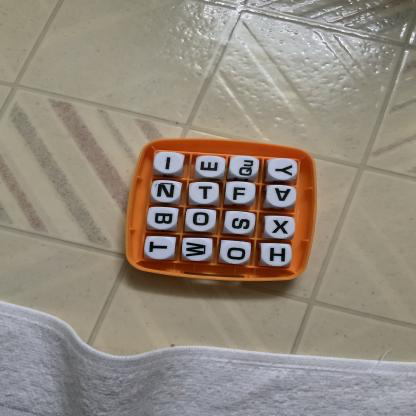a: (267, 185, 301, 210)
b: (148, 208, 179, 230)
e: (199, 157, 225, 176)
f: (226, 184, 254, 205)
h: (265, 245, 294, 268)
i: (155, 152, 186, 176)
n: (153, 180, 182, 204)
o: (224, 242, 252, 266), (189, 210, 215, 231)
qu: (234, 157, 261, 180)
s: (229, 213, 257, 237)
t: (142, 236, 175, 260), (194, 183, 221, 205)
w: (182, 241, 210, 262)
x: (270, 218, 296, 240)
y: (268, 159, 300, 181)
